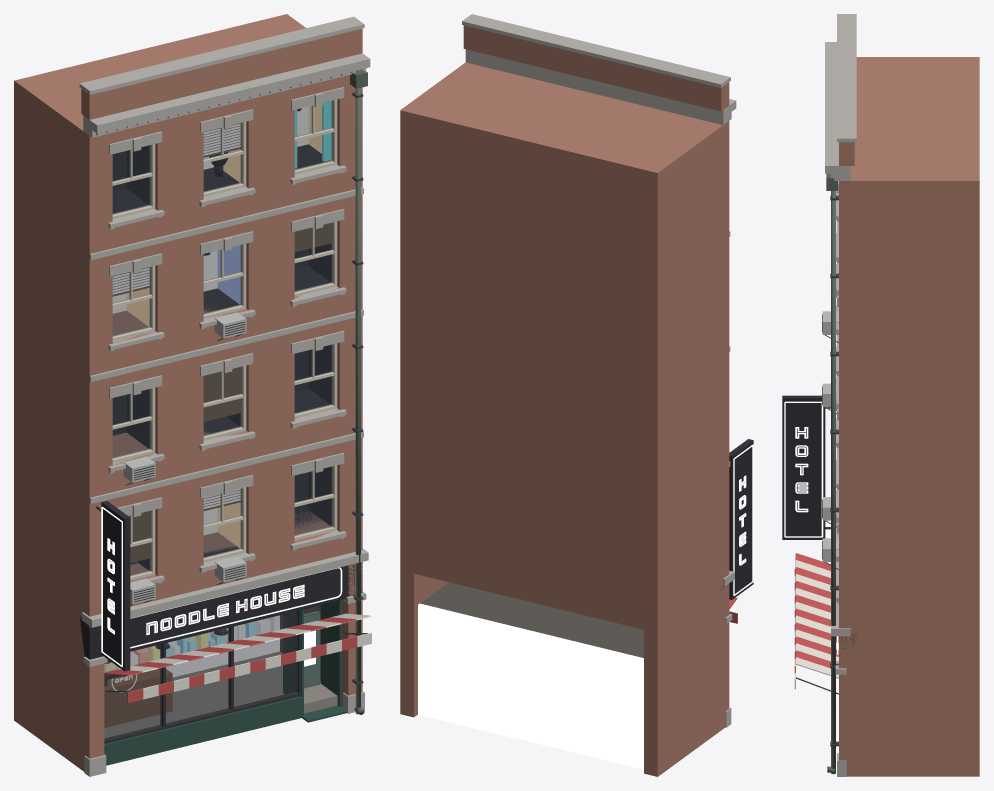
File: bldg_0.glb
3 renders of one model, left to right at view 1: azimuth 30°, elevation 25°; view 2: azimuth 150°, elevation 25°; view 3: azimuth 270°, elevation 25°, orthographic. The views are drawn at different scales.
Parts seen in each view (by area): view 1: bldg_0; view 2: bldg_0; view 3: bldg_0.
Boxes of the visible parts, x1,y1,x2,y2 form: bldg_0: (14, 14, 371, 776); bldg_0: (400, 14, 753, 776); bldg_0: (782, 14, 979, 776).
Size of the model in its own units: 7.6 by 18 by 5.05.
